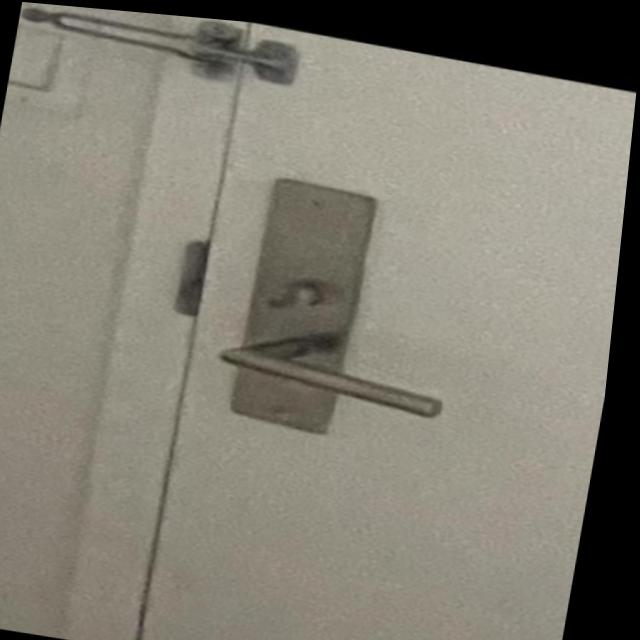door_handle: (194, 306, 481, 432)
